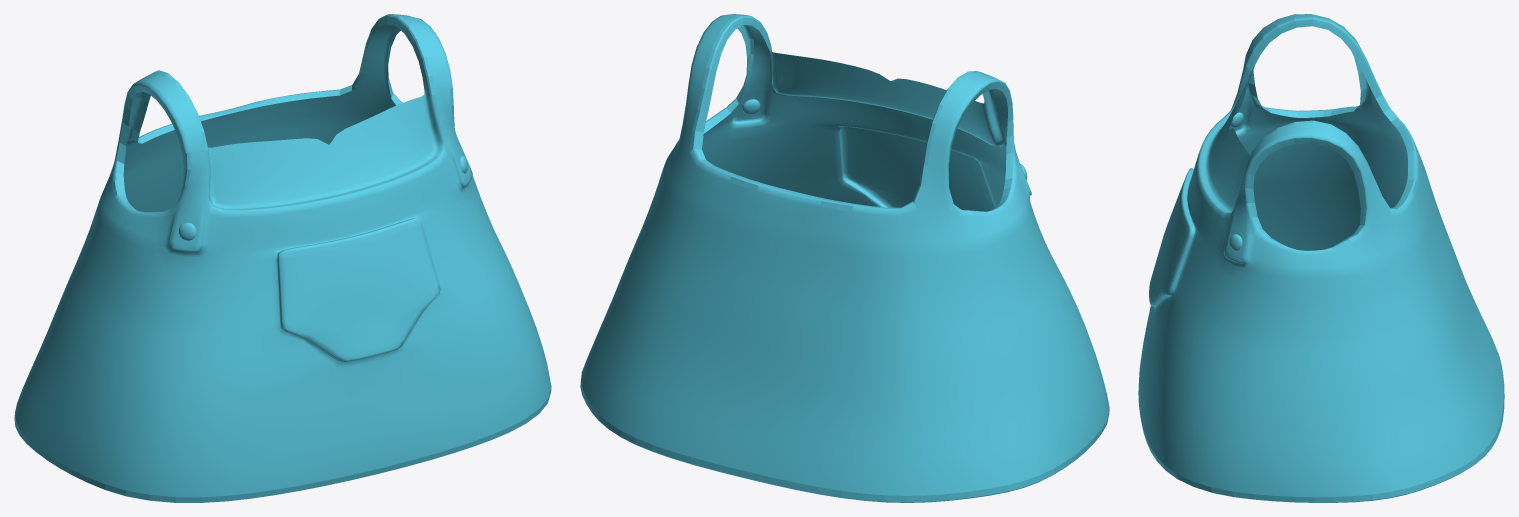
File: Top_Jumper.fbx
3 renders of one model, left to right at view 1: azimuth 30°, elevation 25°; view 2: azimuth 150°, elevation 25°; view 3: azimuth 270°, elevation 25°, orthographic. The views are drawn at different scales.
Parts seen in each view (by area): view 1: Overalls; view 2: Overalls; view 3: Overalls.
Part boxes in pixels (x1=…): Overalls: x1=14, y1=14, x2=551, y2=502; Overalls: x1=580, y1=14, x2=1109, y2=502; Overalls: x1=1138, y1=14, x2=1504, y2=502.
Bounding box in the file's own units: 101 × 74.16 × 74.41.
